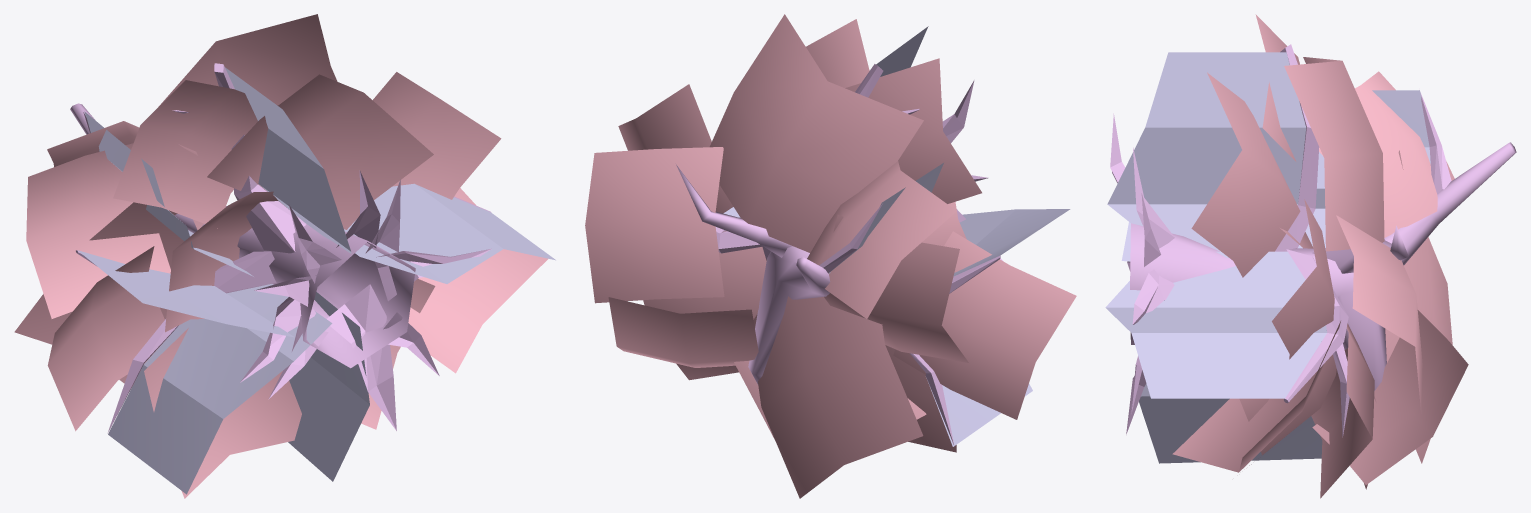
3 views of the same model, side by side, from view 1: azimuth 30°, elevation 25°; view 2: azimuth 150°, elevation 25°; view 3: azimuth 270°, elevation 25° (orthographic). The views are drawn at different scales.
Parts seen in each view (by area): view 1: Object25; view 2: Object25; view 3: Object25.
Boxes of the visible parts, bbox=[...] form: Object25: bbox=[14, 14, 555, 498]; Object25: bbox=[585, 14, 1076, 498]; Object25: bbox=[1105, 14, 1516, 498].
Bounding box in the file's own units: 86781 × 74168 × 61363.
